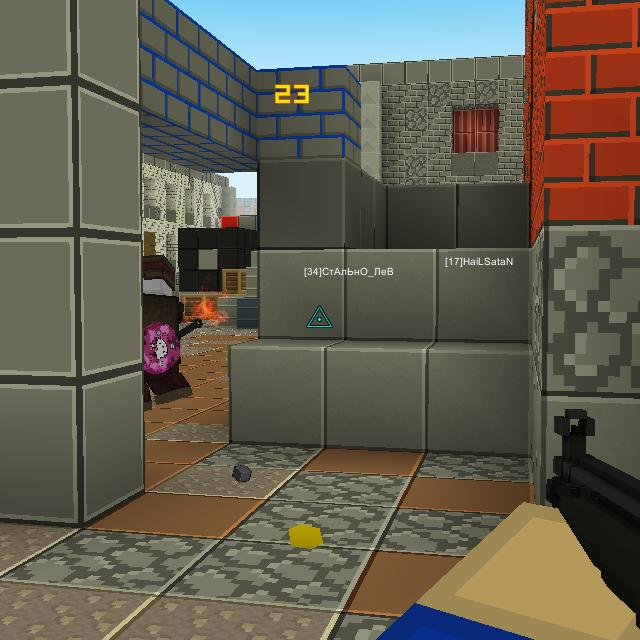enemy: (142, 252, 198, 411)
